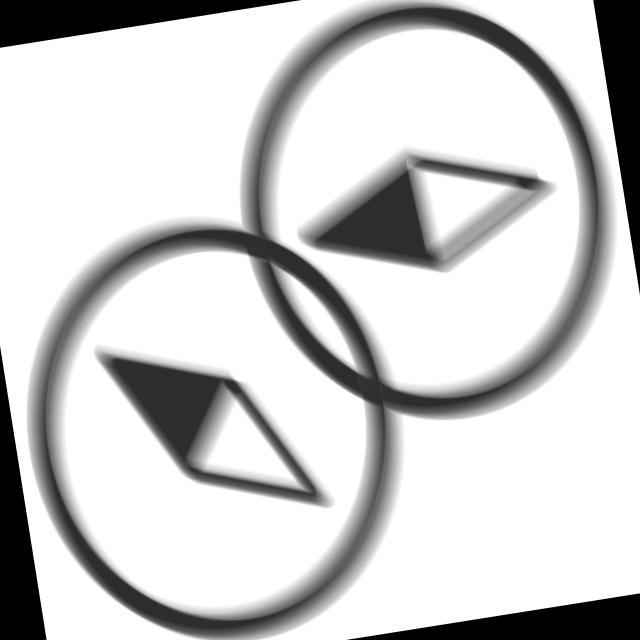compass: (1, 174, 444, 640), (202, 1, 640, 463)
